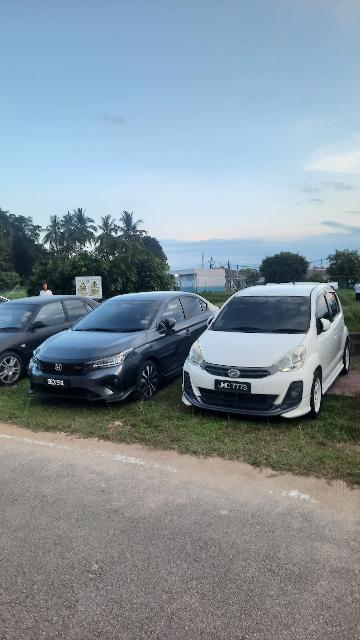License_Plate: (213, 379, 253, 396), (45, 377, 71, 392)
car: (183, 278, 360, 424), (26, 291, 221, 403)
